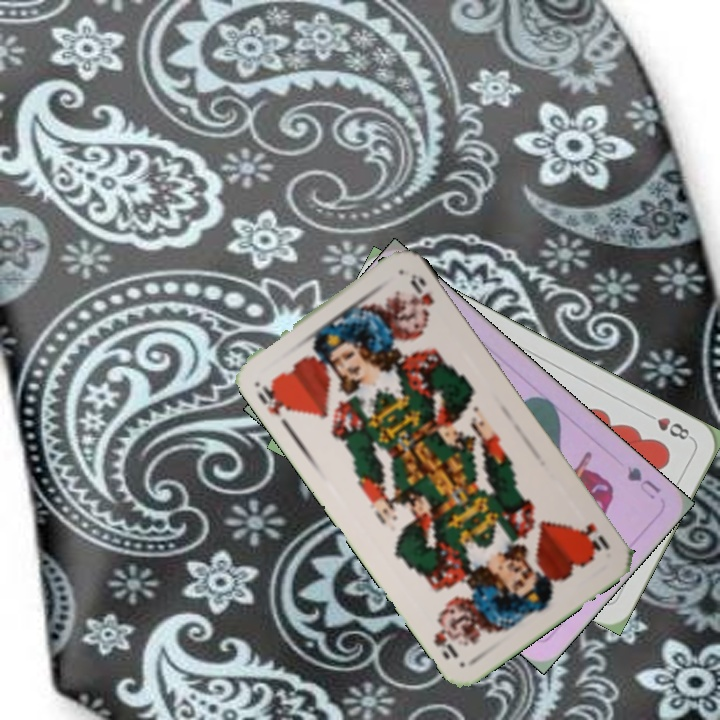GU: (622, 462, 664, 502)
H8: (641, 408, 695, 443)
HO: (253, 377, 296, 430), (576, 519, 613, 554)
